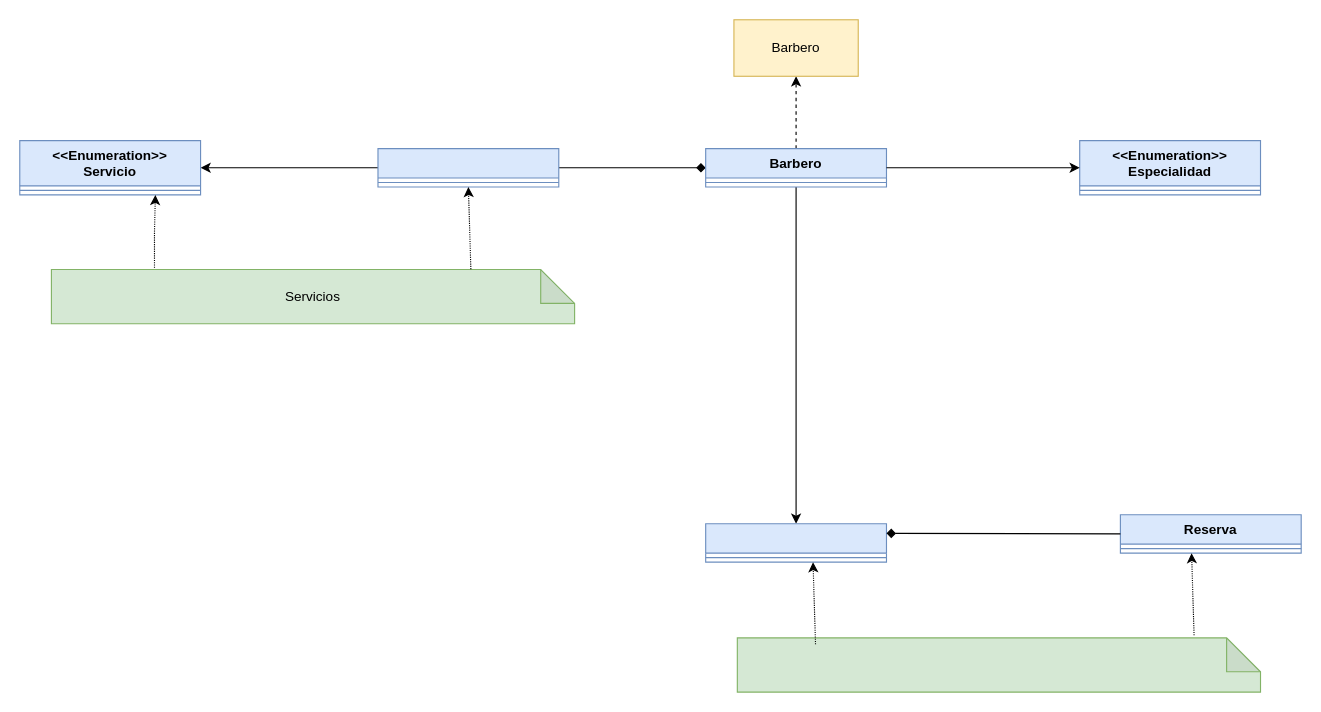
Image size: 1321x712. Some labels were removed from this diagram. The centre of each missing label's shape, as x and y in pixels:
Servicio: the point at 468,167
Turno: the point at 795,542
Turnos: the point at 998,664
